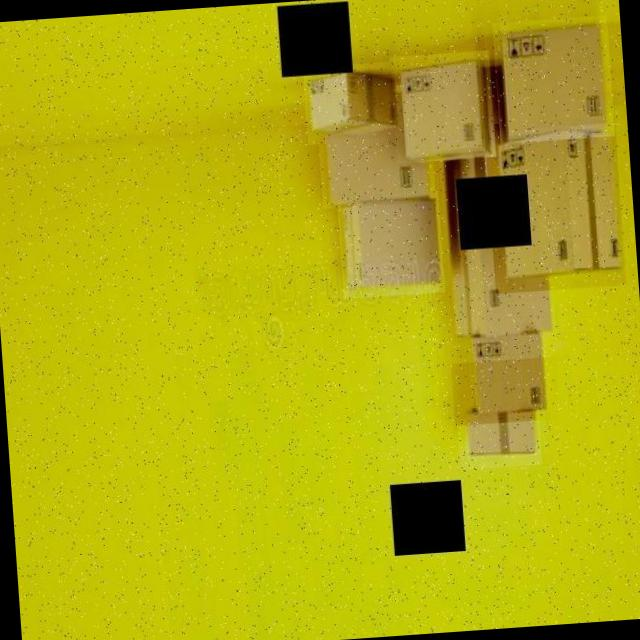box: (434, 140, 568, 363), (483, 115, 626, 294), (490, 15, 614, 144), (389, 50, 496, 164), (336, 190, 445, 299), (316, 120, 435, 209), (448, 330, 558, 426), (302, 61, 396, 145), (456, 404, 542, 470)
